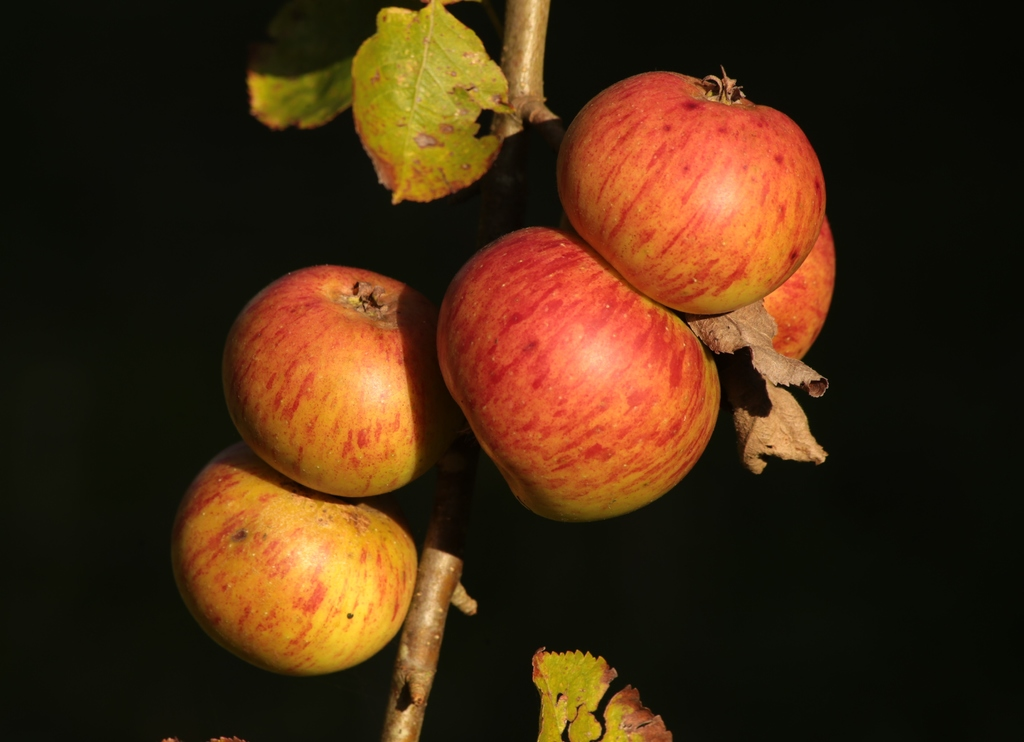Apple: (439, 225, 722, 528), (545, 54, 809, 322), (171, 441, 424, 676), (220, 259, 456, 501), (760, 217, 839, 362)
